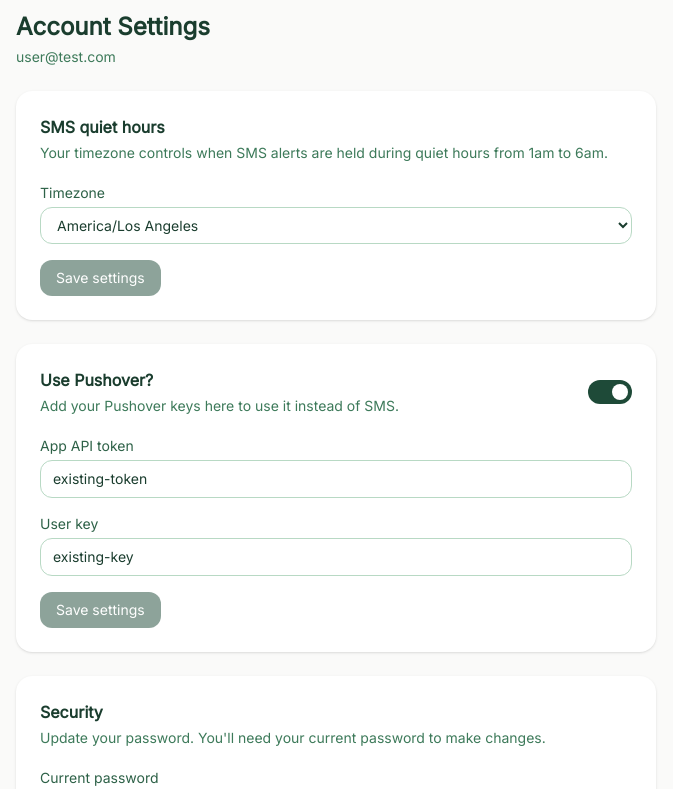
Test: AccountSettingsPage › allows turning Pushover off without re-entering keys
The width and height of the screenshot is (673, 789).
Click the switch: point(610, 392) [588,380,632,404]
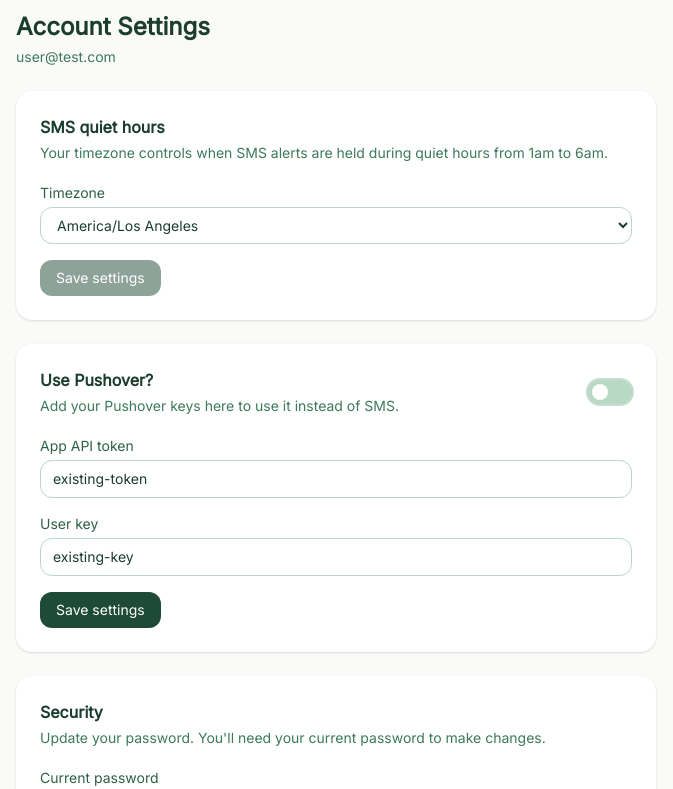
expect the button "Save settings" below "User key" is enabled: met, box [40,592,161,628]
